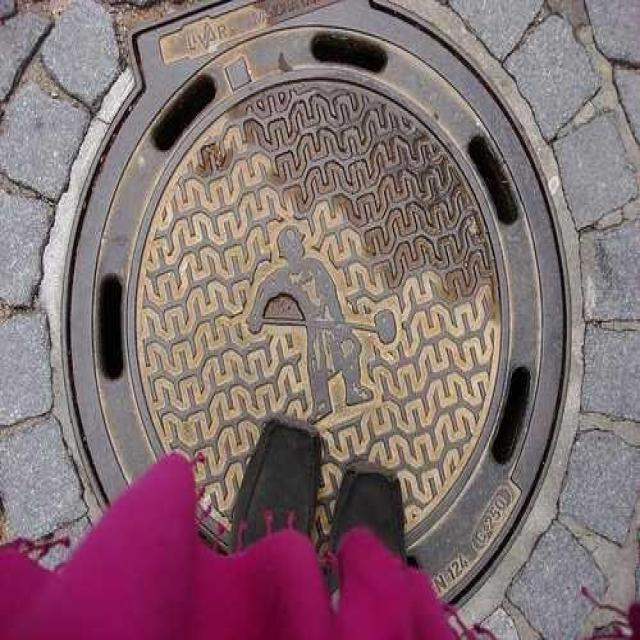manhole: (58, 0, 582, 616)
